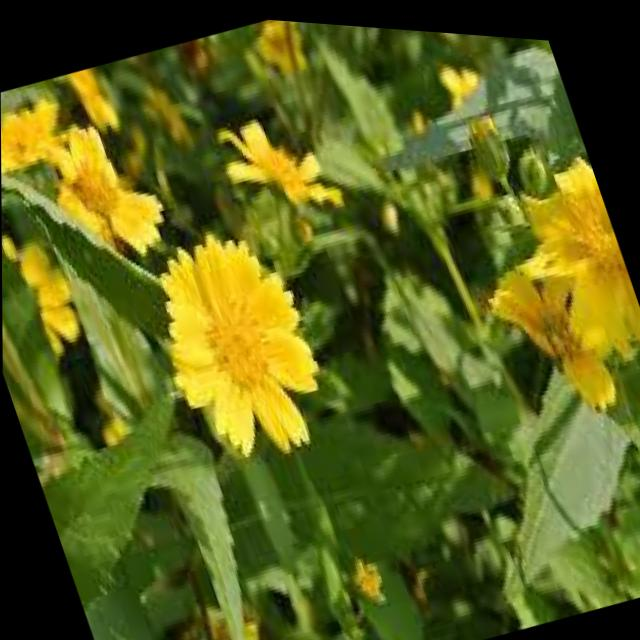Flower: (134, 209, 335, 466), (504, 140, 640, 380), (29, 96, 176, 273), (210, 84, 355, 244)
